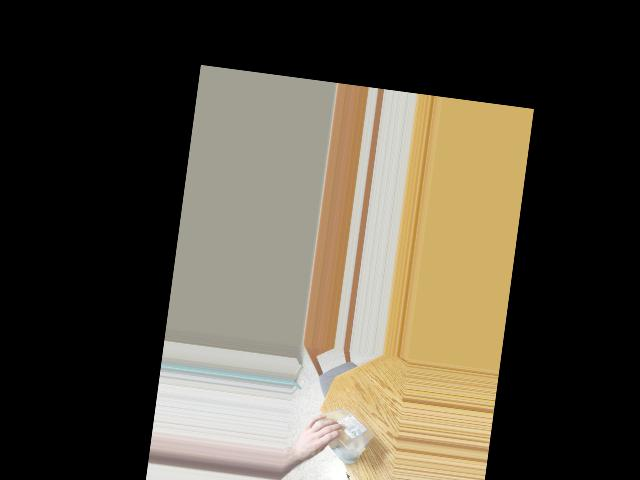cheese: (305, 404, 375, 464)
